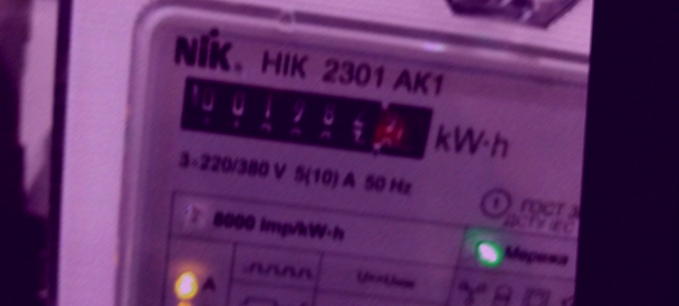0: (228, 88, 247, 118), (198, 83, 216, 113)
1: (260, 90, 274, 119)
2: (349, 98, 369, 128)
8: (319, 97, 337, 126)
9: (380, 106, 402, 135), (288, 94, 305, 124)
screen: (161, 61, 448, 174)
